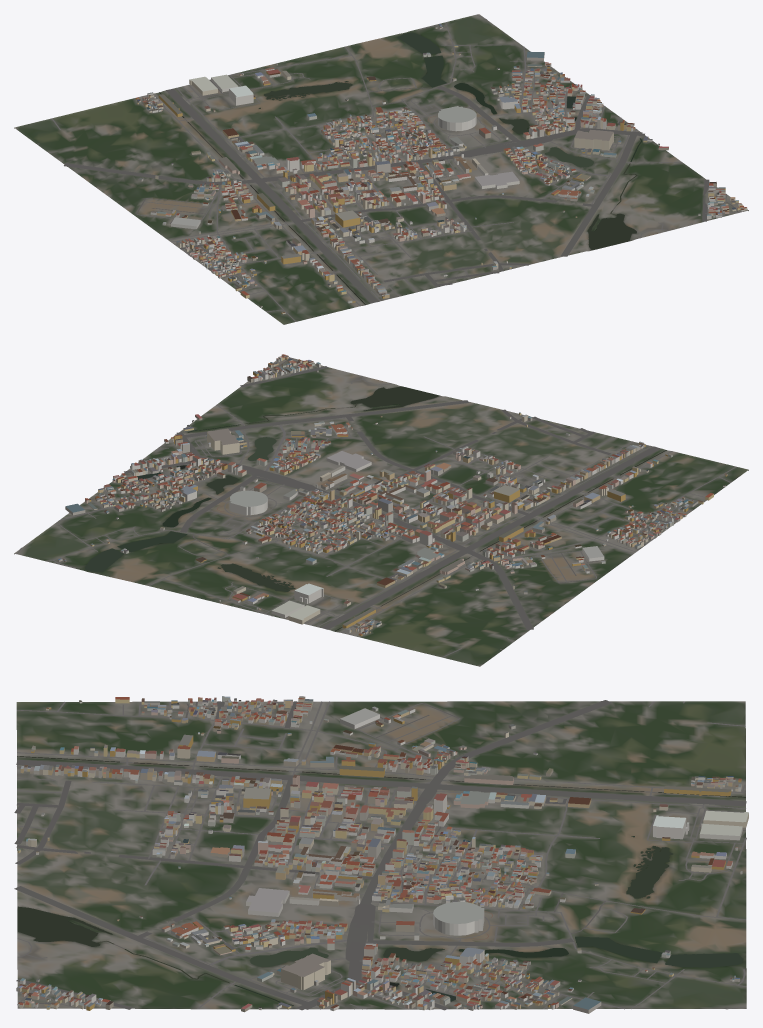
3 renders of one model, top to bottom at view 1: azimuth 30°, elevation 25°; view 2: azimuth 150°, elevation 25°; view 3: azimuth 270°, elevation 25°, orthographic. The views are drawn at different scales.
Visible parts, largest first — view 1: ground, buildings, roads, water; view 2: ground, buildings, roads, water; view 3: ground, buildings, roads, water.
Boxes of the visible parts, box(x1,y1,x2,y2) form: ground: box(14, 14, 748, 324); buildings: box(135, 24, 747, 314); roads: box(37, 14, 743, 321); water: box(159, 32, 641, 304); ground: box(14, 357, 748, 666); buildings: box(57, 354, 727, 636); roads: box(16, 357, 736, 657); water: box(85, 386, 666, 631); ground: box(16, 701, 746, 1009); buildings: box(16, 696, 748, 1013); roads: box(14, 700, 746, 1010); water: box(17, 756, 745, 1005).
Bounding box in the file's own units: 1427 × 37.27 × 1413.
